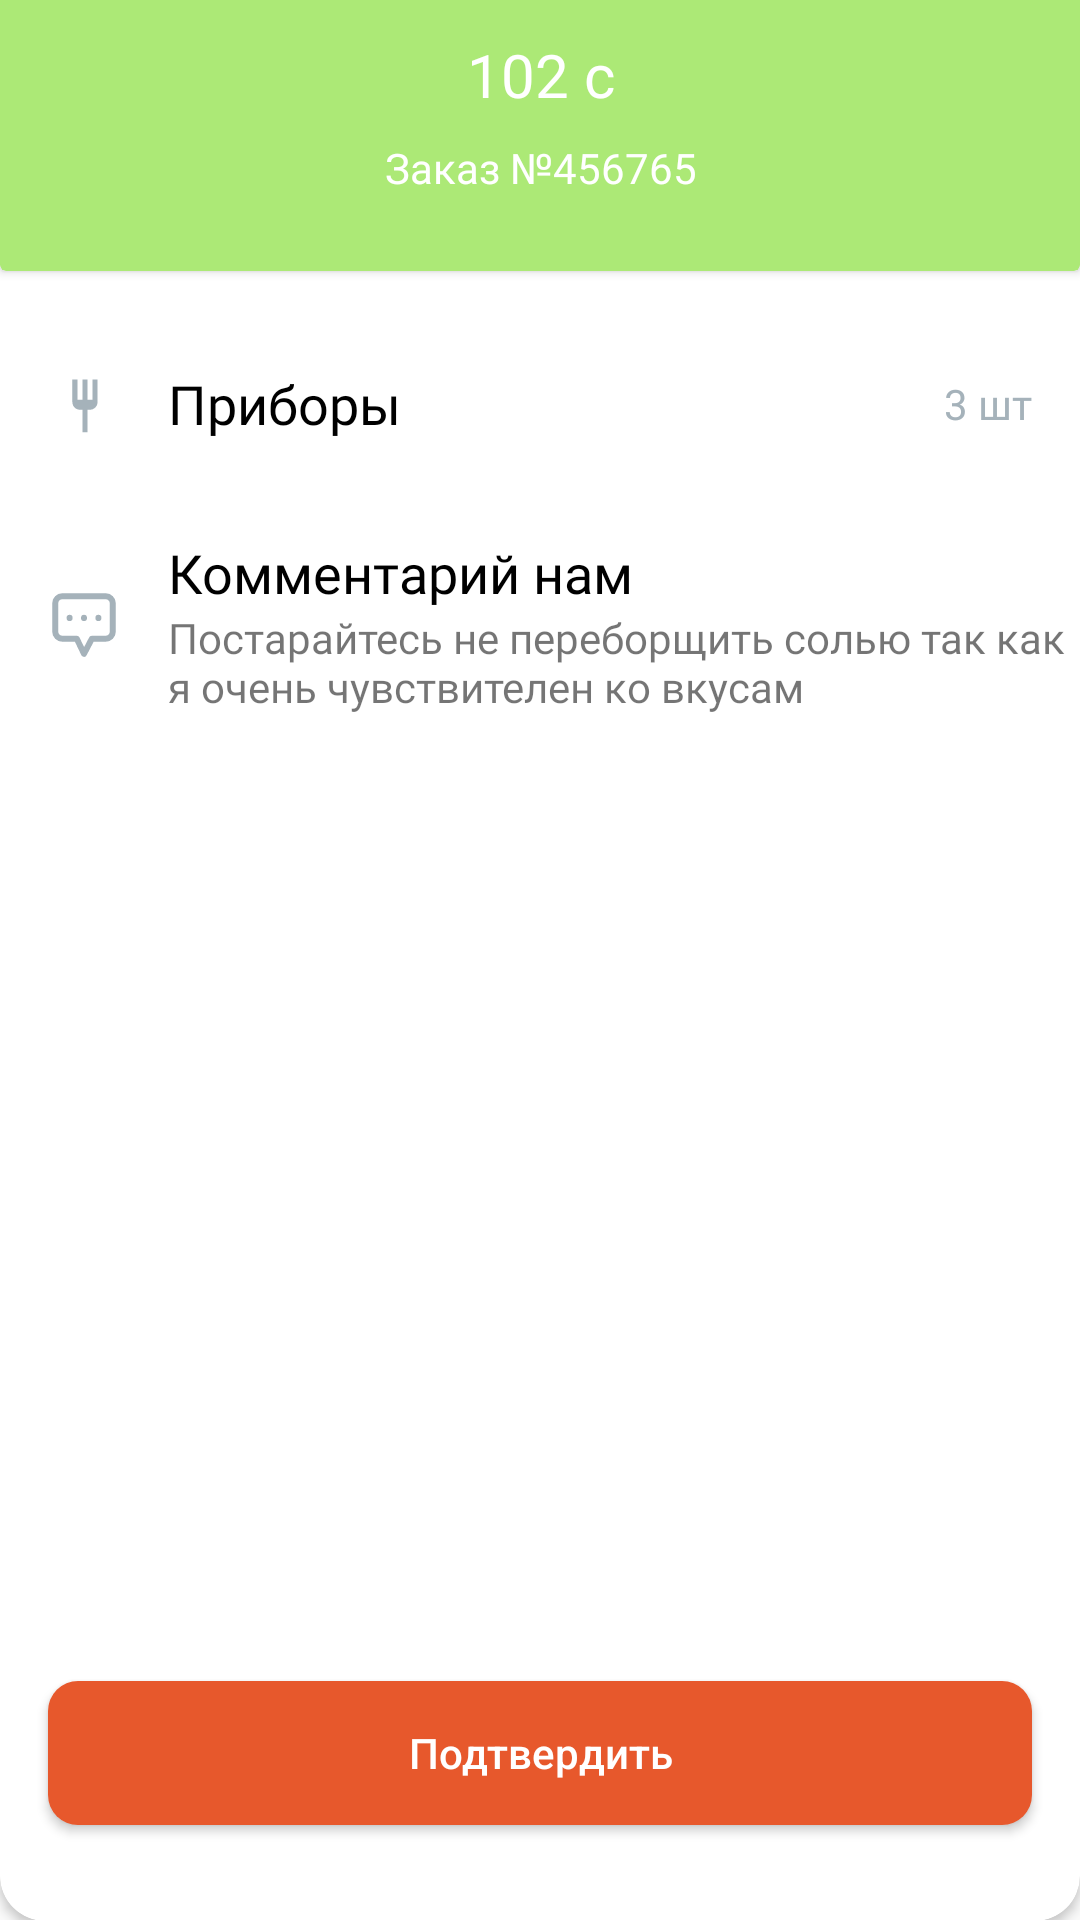

Screen size 1080 x 1920. Icon name, then its box in pixels as [x1=x1, y1=y1, x2=x2, y2=y2]:
annotation typing: [x1=52, y1=593, x2=116, y2=657]
fork: [x1=72, y1=379, x2=98, y2=432]
